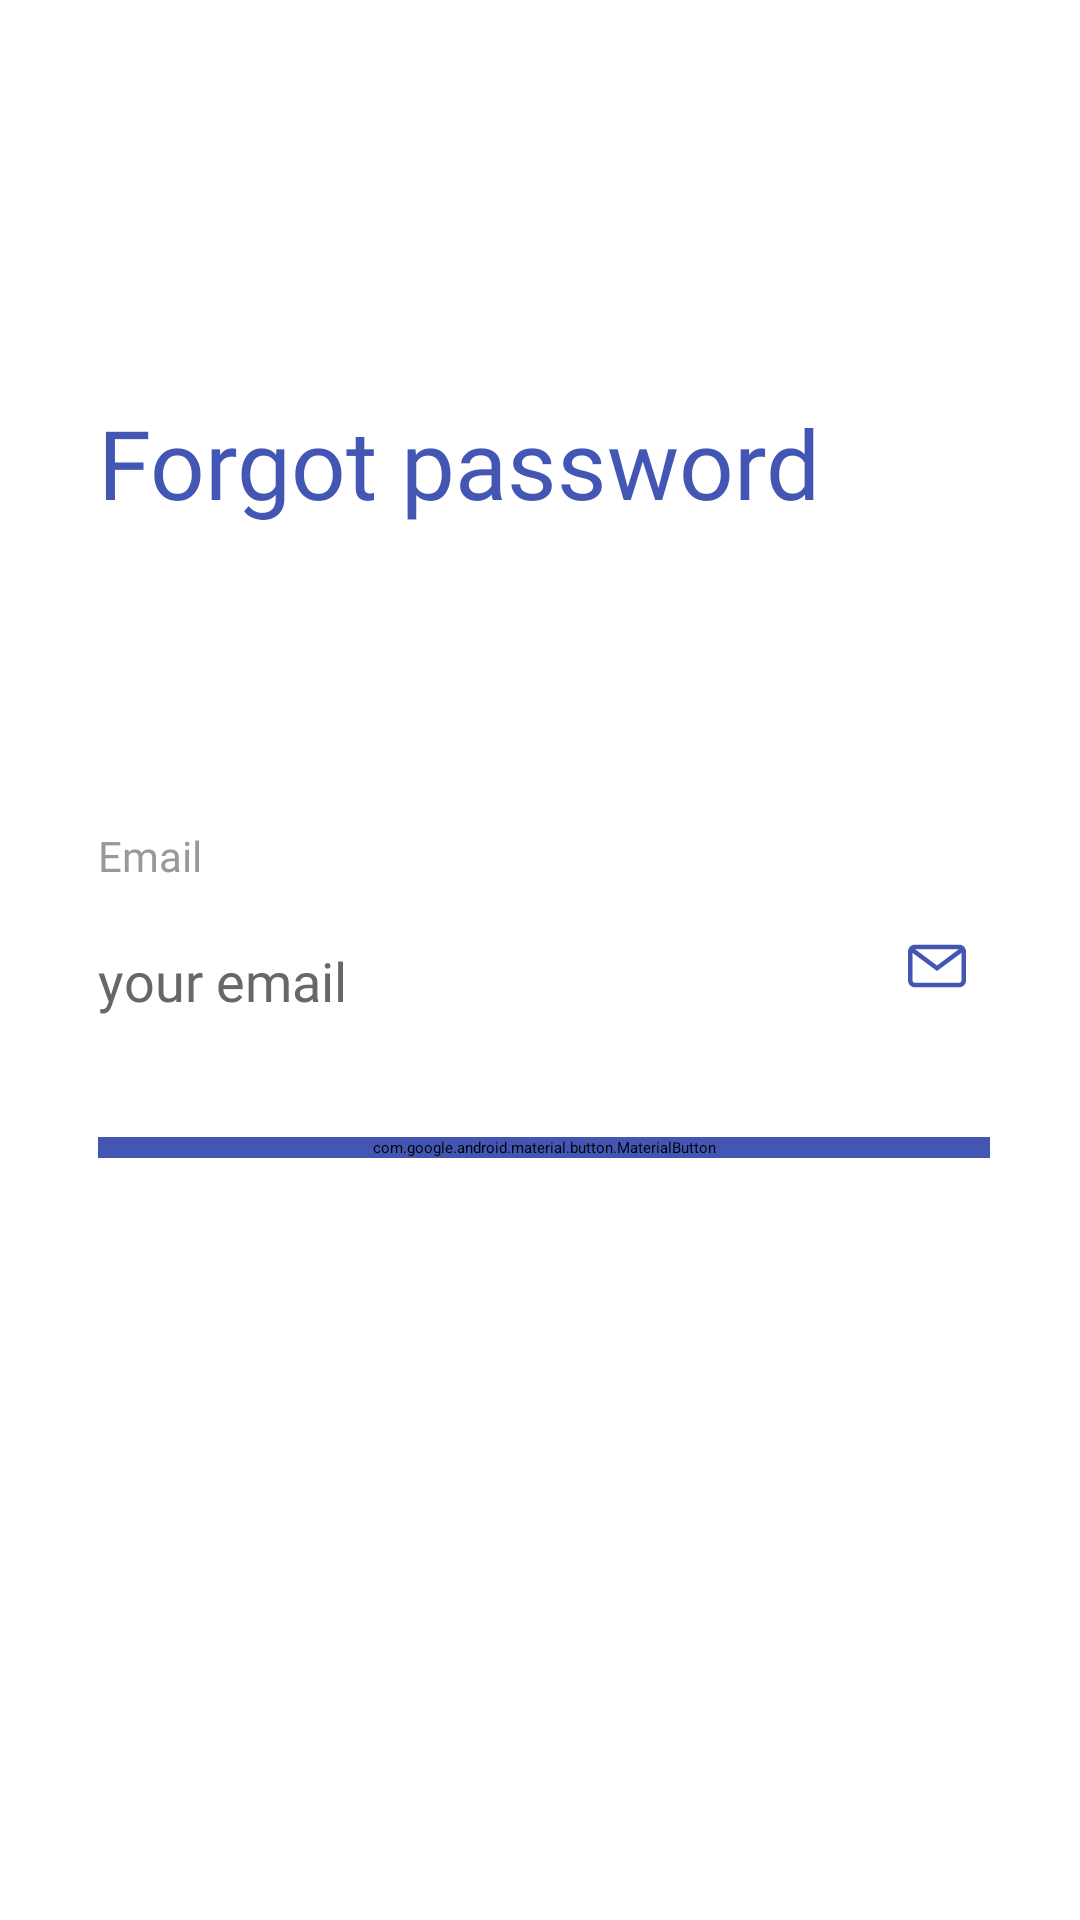

Icon click points for this 1080*1920 phone screenshot, format (x=x, y=y):
mail login: (x=937, y=966)
